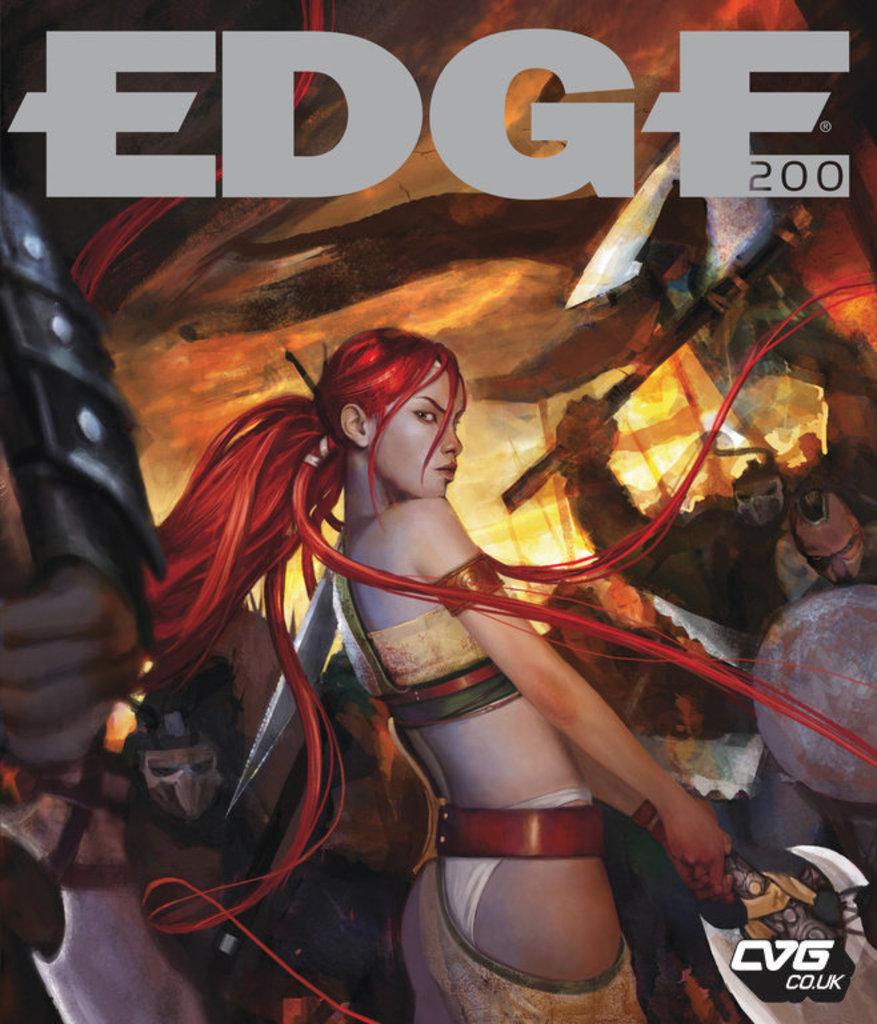face: (379, 358, 466, 496)
